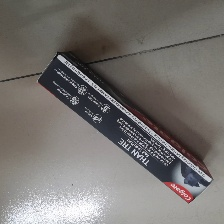Colgate Than: (35, 50, 214, 205)
